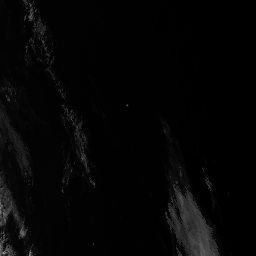Target: (124, 103, 129, 108)
